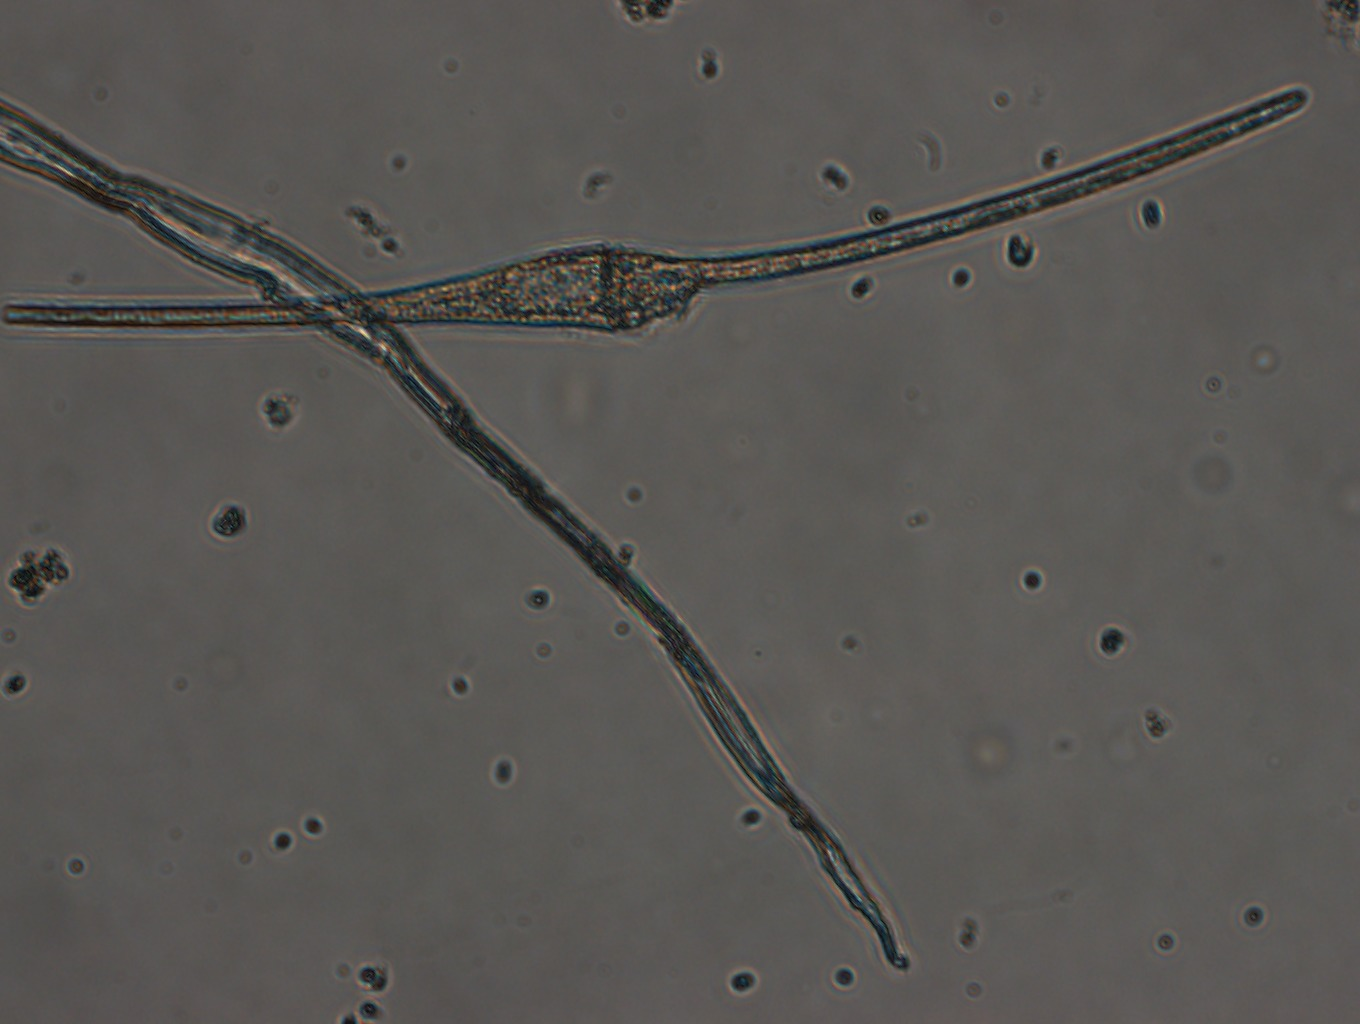ceratium fusus: (1, 127, 921, 965), (4, 84, 1316, 342)
